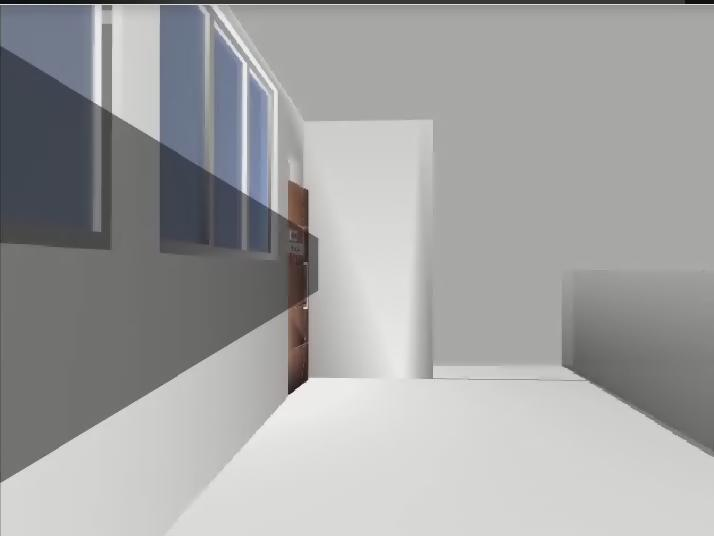door: (288, 180, 309, 396)
